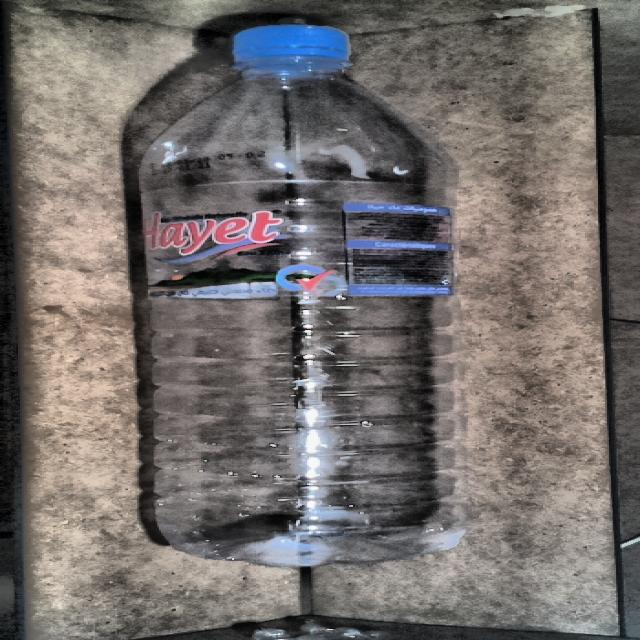plastic bottle: (139, 23, 466, 571)
